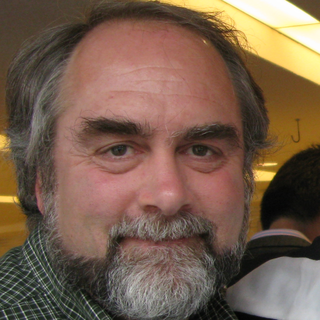eye: (93, 139, 143, 163), (178, 139, 226, 163)
